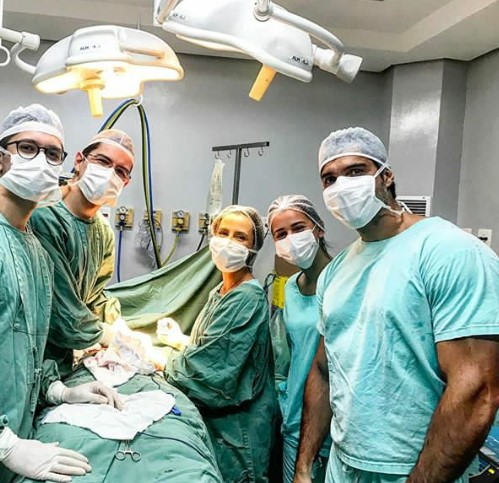face_with_mask: (315, 125, 397, 232), (1, 105, 65, 207), (72, 126, 135, 208), (266, 194, 326, 272), (208, 204, 264, 274)
